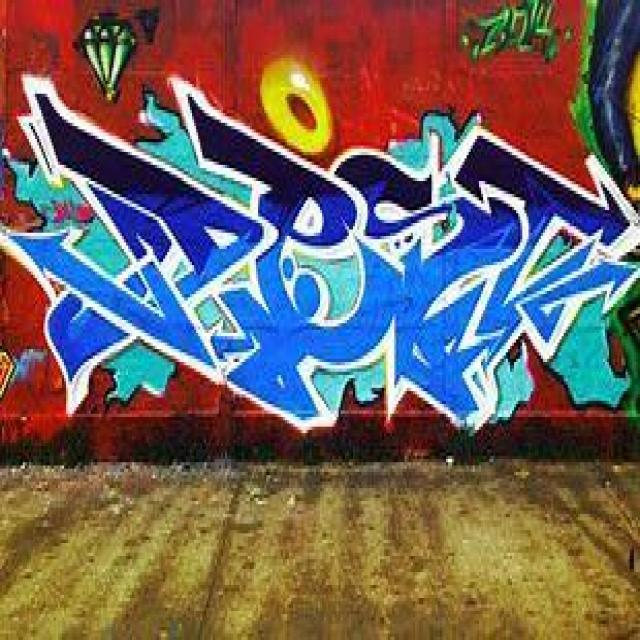nonspitting: (0, 19, 640, 434), (458, 0, 575, 65)
